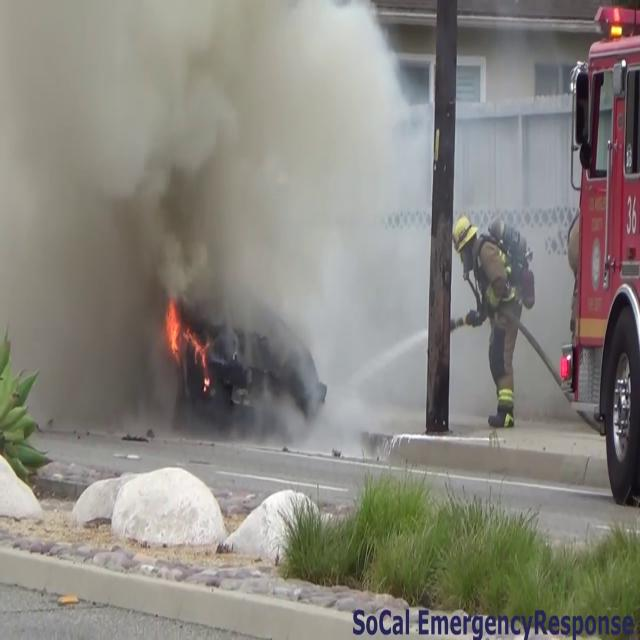Fire: (162, 293, 212, 387)
Smoke: (1, 0, 424, 429)
